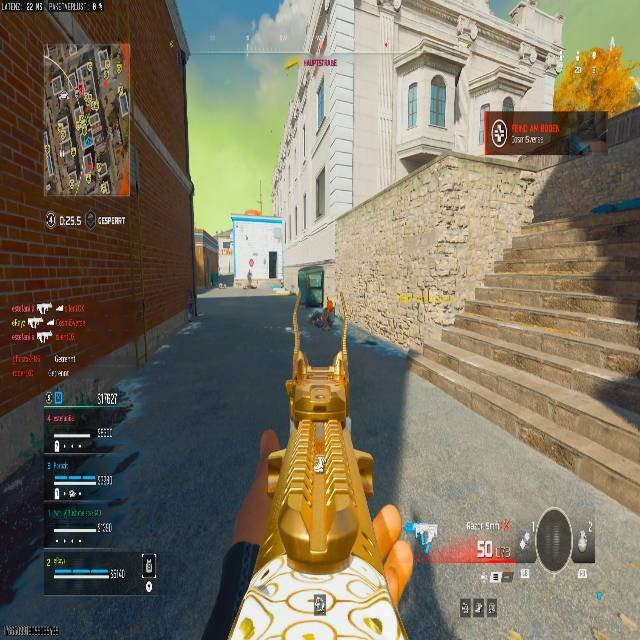player: (246, 258, 256, 286)
